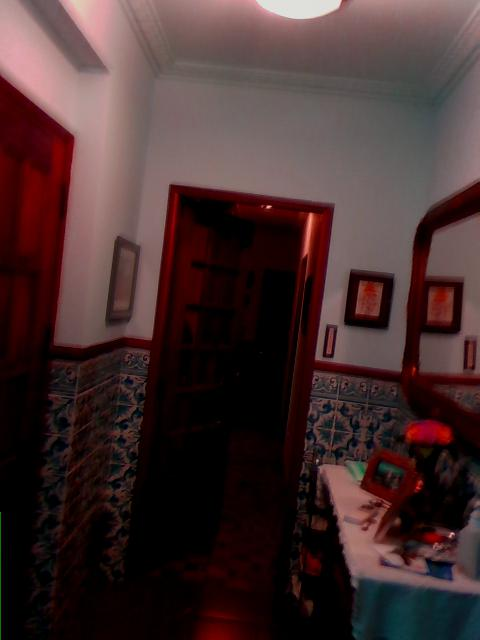semi_door: (126, 183, 337, 604)
